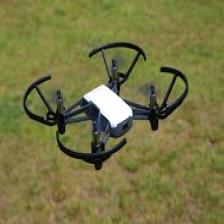drone: (23, 41, 189, 170)
